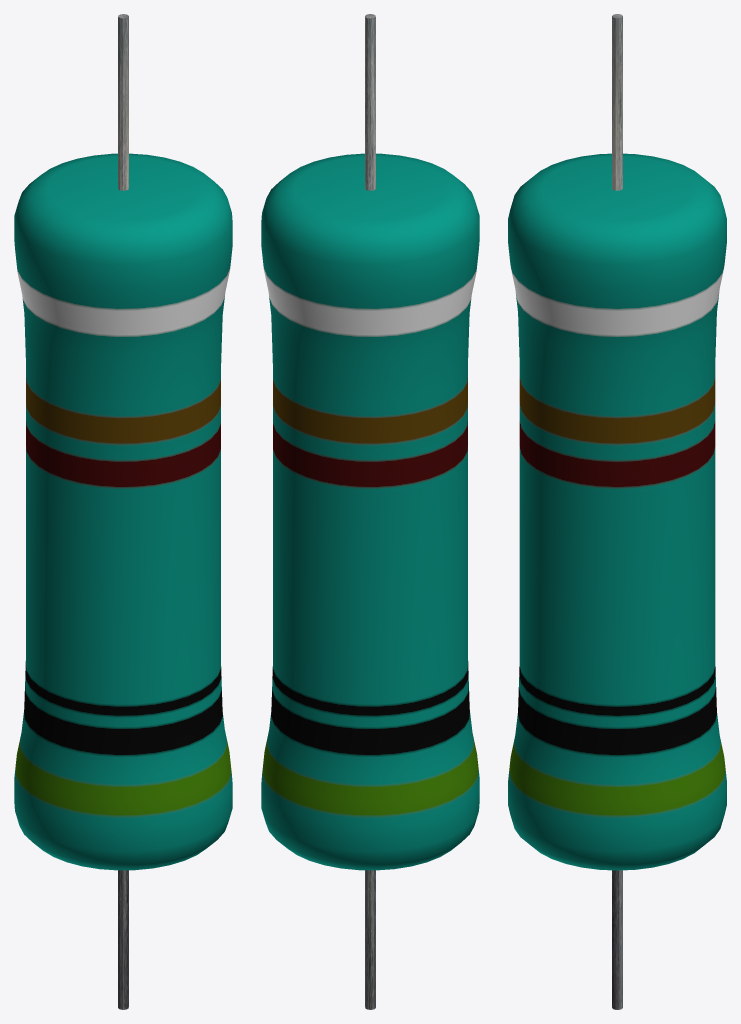
The model's file is resistance.obj.
3 renders of one model, left to right at view 1: azimuth 30°, elevation 25°; view 2: azimuth 150°, elevation 25°; view 3: azimuth 270°, elevation 25°, orthographic.
Parts seen in each view (by area): view 1: Resistance; view 2: Resistance; view 3: Resistance.
Part boxes in pixels (bbox=[...]): Resistance: bbox=[14, 14, 232, 1009]; Resistance: bbox=[261, 14, 479, 1009]; Resistance: bbox=[508, 14, 726, 1009].
Size of the model in its own units: 0.04 by 0.2 by 0.04.
2 materials, 2 textured.
